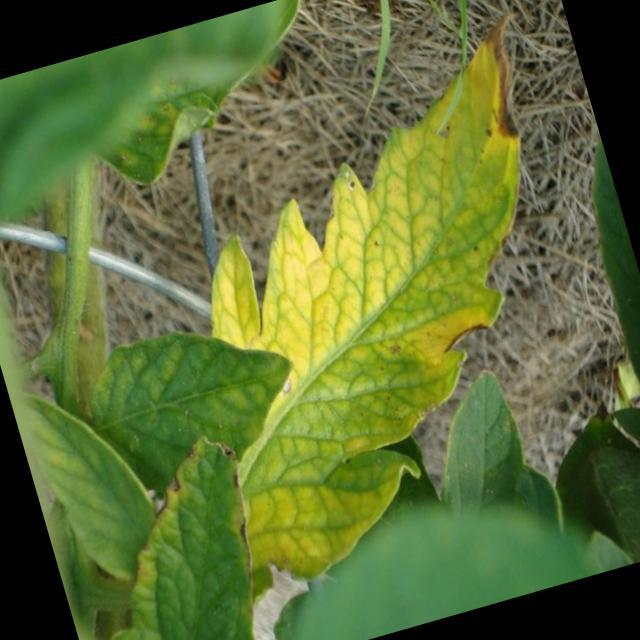Tomato mold leaf: (119, 24, 640, 600), (56, 295, 312, 506), (73, 420, 299, 640)
